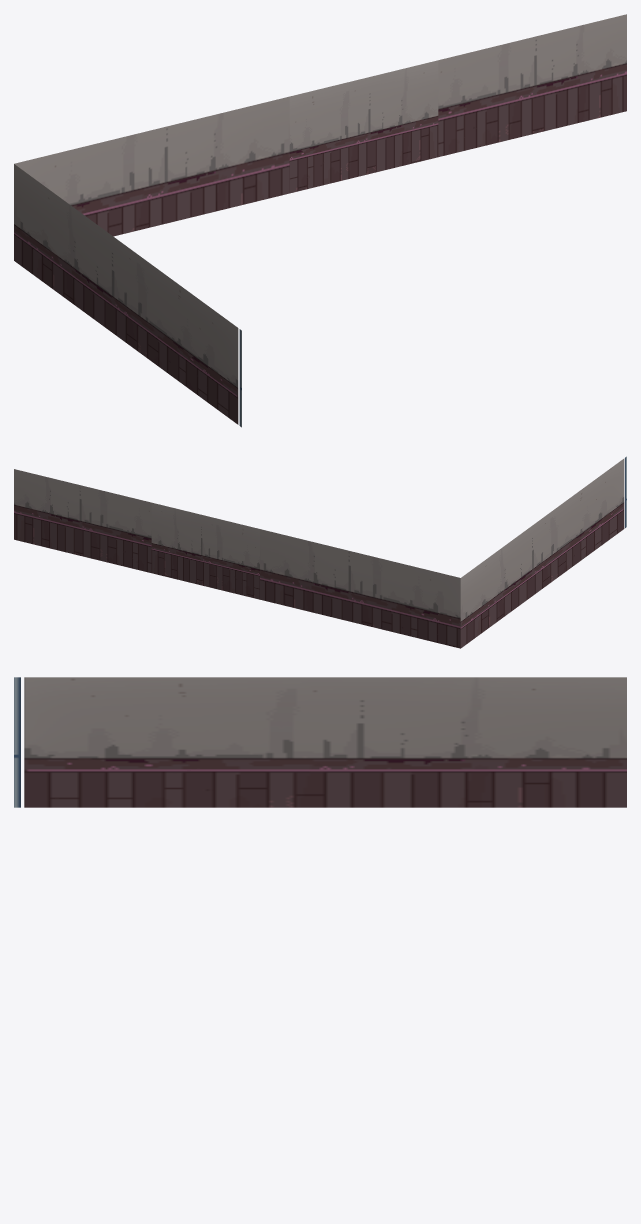
Rendered from Parede1Andar.fbx.
The picture shows the model from 3 angles, top to bottom: view 1: azimuth 30°, elevation 25°; view 2: azimuth 150°, elevation 25°; view 3: azimuth 270°, elevation 25°; orthographic projection. The views are drawn at different scales.
Parts seen in each view (by area): view 1: Parede1Andar; view 2: Parede1Andar; view 3: Parede1Andar.
Boxes of the visible parts, x1=… form: Parede1Andar: x1=14, y1=14, x2=626, y2=427; Parede1Andar: x1=14, y1=456, x2=626, y2=648; Parede1Andar: x1=14, y1=677, x2=626, y2=807.
Size of the model in its own units: 1502 by 968 by 227.
